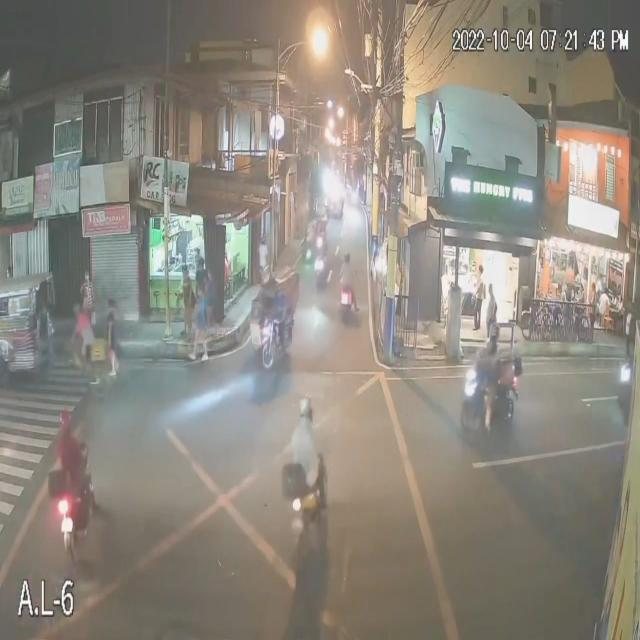Full-Faced: (296, 393, 318, 424), (55, 406, 73, 432), (486, 324, 502, 350), (340, 247, 354, 268)
